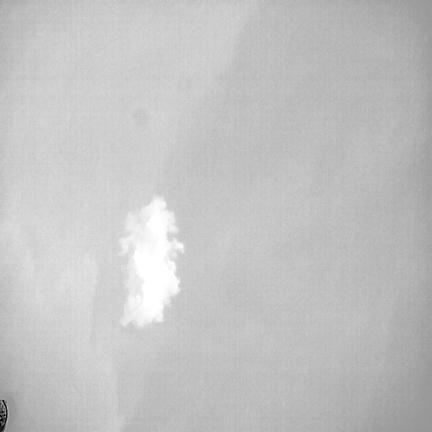flukeprints: (120, 197, 183, 327)
